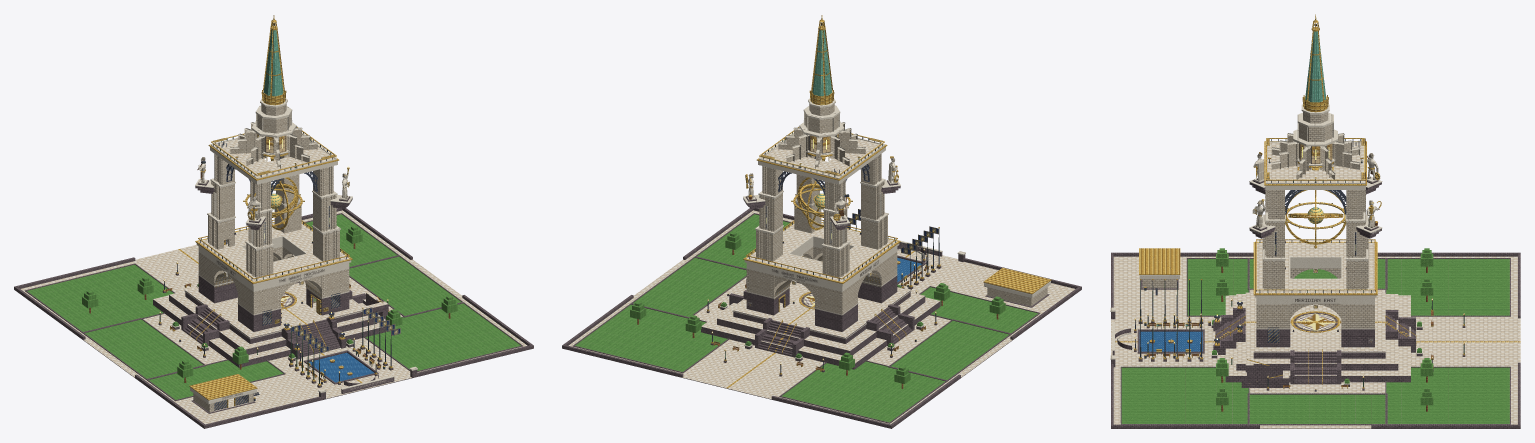
Rendered from great-meridian-2000.glb.
3 views of the same model, side by side, from view 1: azimuth 30°, elevation 25°; view 2: azimuth 150°, elevation 25°; view 3: azimuth 270°, elevation 25° (orthographic). The views are drawn at different scales.
Parts seen in each view (by area): view 1: lot_ground, structure, floor_plaza, floor_rotunda_plaza, floor_cornice_gallery, floor_observation_deck, floor_stairs_pz, armillary_outer; view 2: structure, lot_ground, floor_plaza, floor_rotunda_plaza, floor_cornice_gallery, floor_observation_deck, floor_stairs_mz, armillary_outer; view 3: lot_ground, structure, floor_plaza, floor_rotunda_plaza, floor_cornice_gallery, floor_observation_deck, floor_stairs_px, armillary_outer, floor_stairs_pz.
Part boxes in pixels (left/top/right/bottom): lot_ground: left=14, top=208, right=533, bottom=428; structure: left=153, top=15, right=390, bottom=367; floor_plaza: left=20, top=210, right=527, bottom=424; floor_rotunda_plaza: left=185, top=281, right=362, bottom=337; floor_cornice_gallery: left=198, top=222, right=349, bottom=281; floor_observation_deck: left=214, top=135, right=334, bottom=177; floor_stairs_pz: left=290, top=319, right=339, bottom=355; armillary_outer: left=243, top=156, right=304, bottom=230; structure: left=701, top=15, right=940, bottom=369; lot_ground: left=562, top=208, right=1081, bottom=428; floor_plaza: left=568, top=210, right=1075, bottom=424; floor_rotunda_plaza: left=733, top=281, right=910, bottom=337; floor_cornice_gallery: left=746, top=222, right=897, bottom=281; floor_observation_deck: left=761, top=135, right=881, bottom=177; floor_stairs_mz: left=758, top=320, right=804, bottom=355; armillary_outer: left=791, top=156, right=852, bottom=230; lot_ground: left=1110, top=248, right=1520, bottom=428; structure: left=1213, top=14, right=1416, bottom=387; floor_plaza: left=1111, top=256, right=1520, bottom=428; floor_rotunda_plaza: left=1245, top=292, right=1385, bottom=351; floor_cornice_gallery: left=1256, top=242, right=1375, bottom=293; floor_observation_deck: left=1267, top=142, right=1364, bottom=182; floor_stairs_px: left=1294, top=352, right=1336, bottom=382; armillary_outer: left=1285, top=166, right=1346, bottom=245; floor_stairs_pz: left=1215, top=311, right=1245, bottom=344.
Size of what is drawn, in the model's own units: 120 by 107 by 120.
12 materials, 12 textured.
